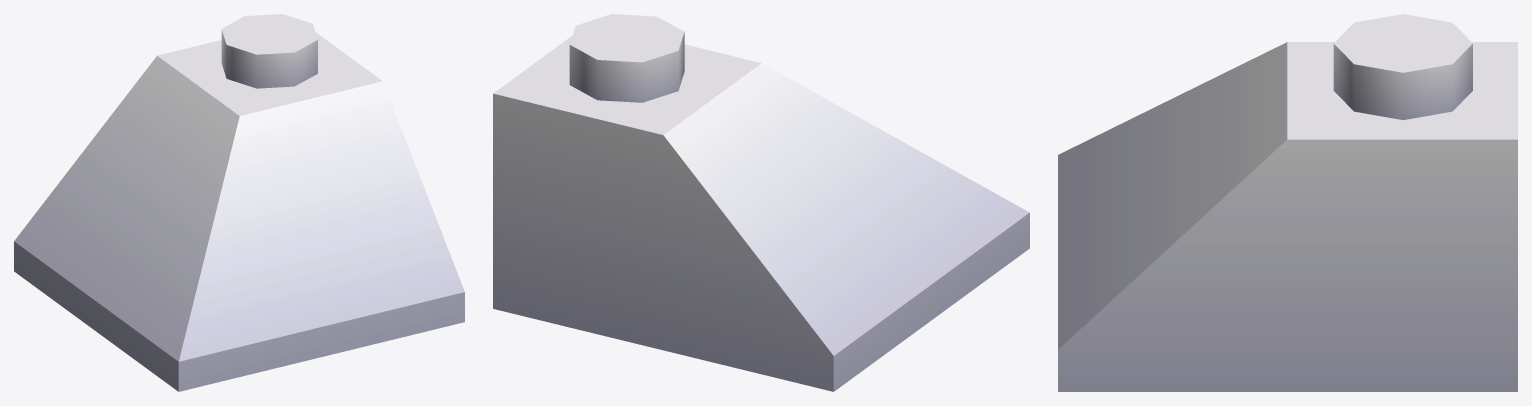
The model's file is kenney-brick-round-lq-brick-slope-corner-outside-2-x-2.glb.
3 renders of one model, left to right at view 1: azimuth 30°, elevation 25°; view 2: azimuth 150°, elevation 25°; view 3: azimuth 270°, elevation 25°, orthographic. The views are drawn at different scales.
Parts seen in each view (by area): view 1: round-lq-brick-slope-corner-outside-2x2; view 2: round-lq-brick-slope-corner-outside-2x2; view 3: round-lq-brick-slope-corner-outside-2x2.
Boxes of the visible parts, box(x1,y1,x2,y2) form: round-lq-brick-slope-corner-outside-2x2: box(14, 14, 464, 391); round-lq-brick-slope-corner-outside-2x2: box(493, 14, 1029, 391); round-lq-brick-slope-corner-outside-2x2: box(1058, 14, 1517, 391).
Bounding box in the file's own units: 0.159 × 0.114 × 0.1585.
Materials: 1 (1 with a texture image).
